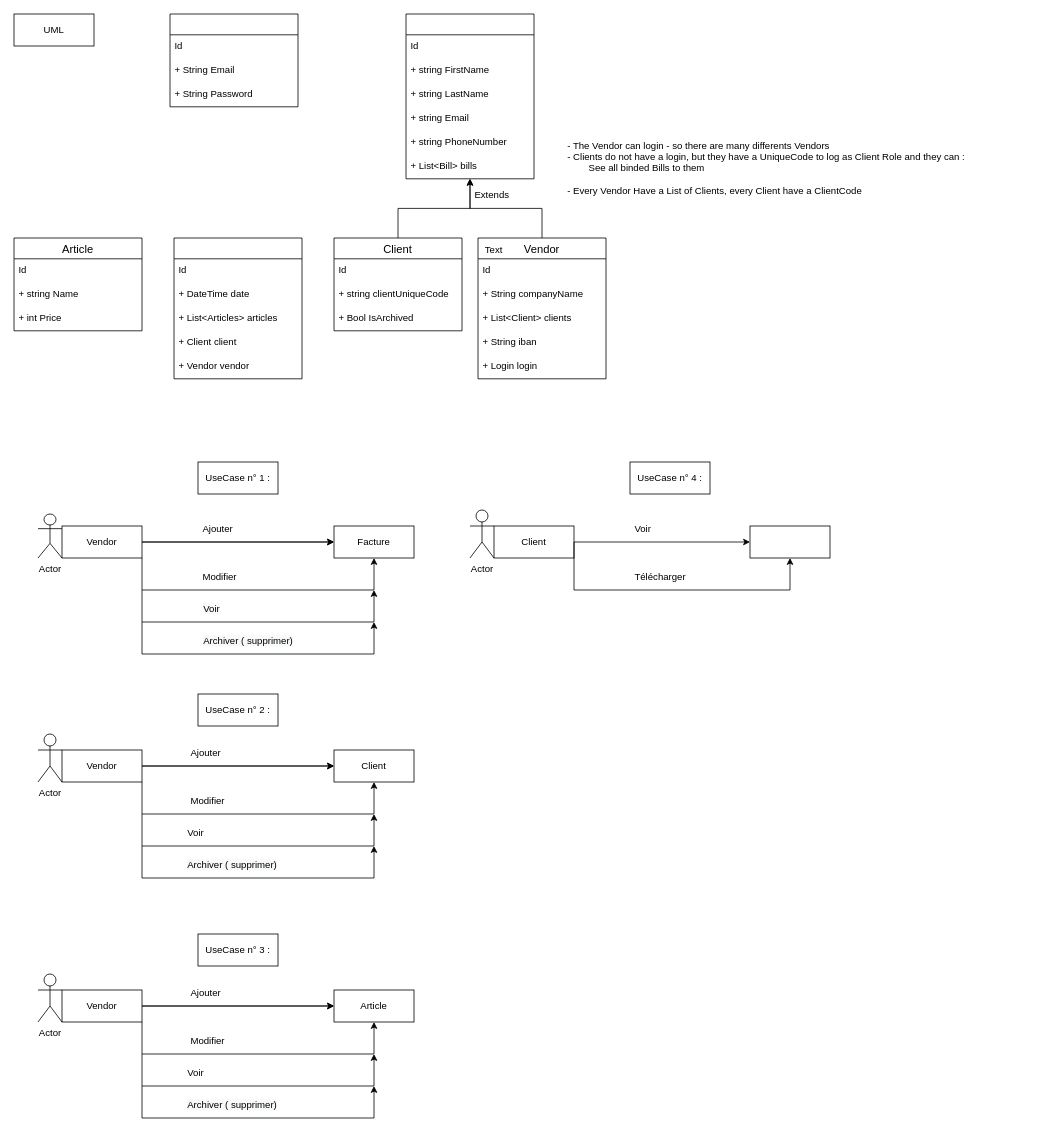
The diagram is 1052 pixels wide and 1138 high, and some of its shapes have lost their labels. The shapes that lost their labels are listed below. From the top down, each one's box as (x1, y1, x2, y2) in pixels, then its label:
(169, 13, 298, 107): Login
(405, 13, 534, 179): User
(173, 237, 302, 379): Bill
(749, 525, 830, 558): Factures
